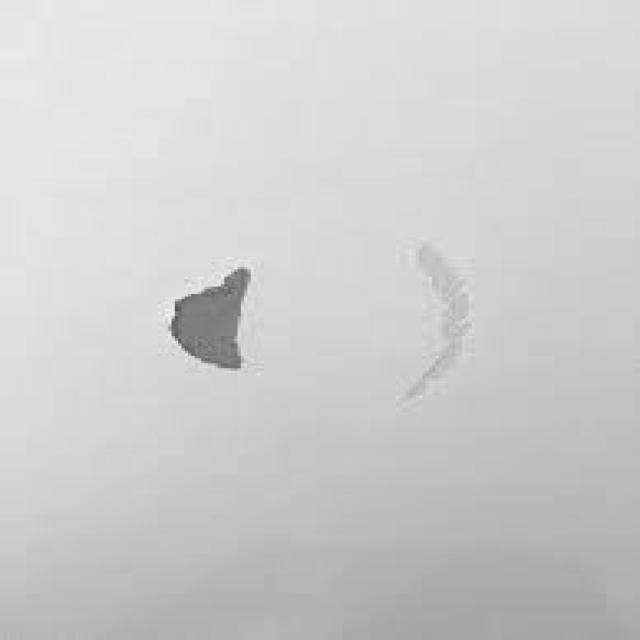peeling paint: (132, 165, 514, 464)
